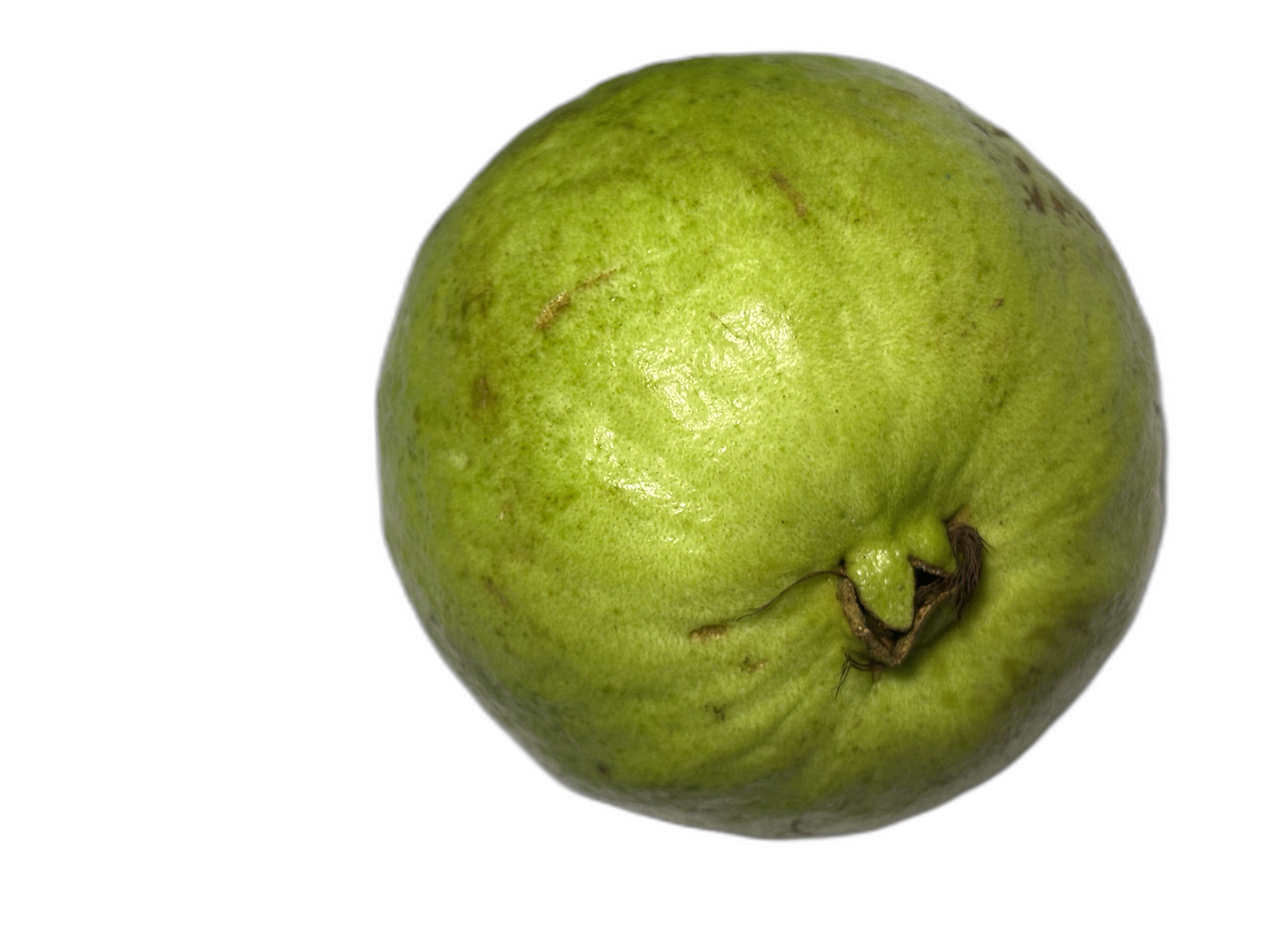guava: (249, 232, 1125, 843)
